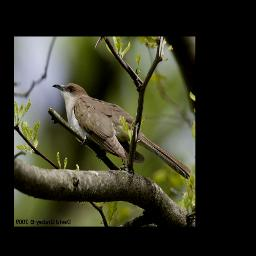Cuckoo: (54, 81, 193, 179)
